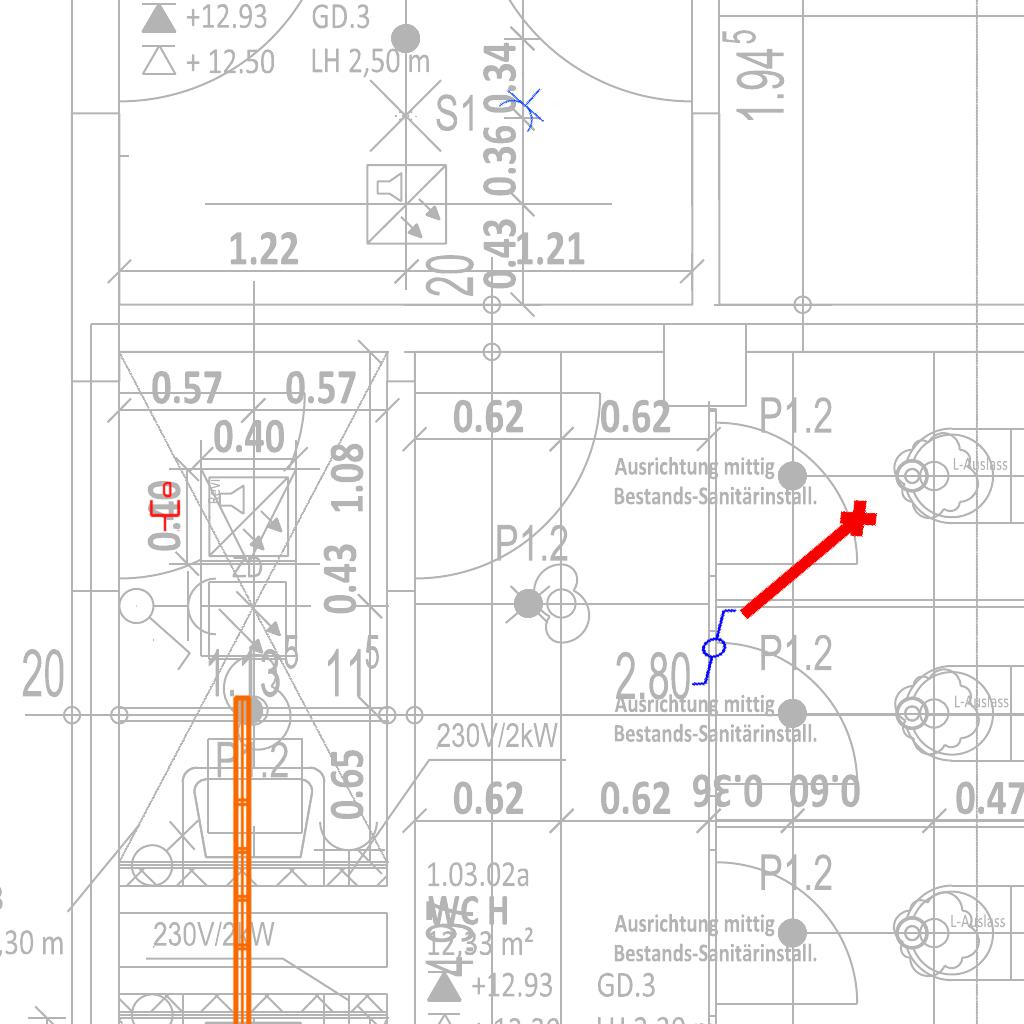ASR_Ansaugoeffnung: (725, 489, 891, 639)
Ambulanz_Pendelleuchte_LED: (227, 690, 283, 1024)
Datenanschluss_einfach: (148, 482, 182, 532)
Schukosteckdose_einfach: (493, 71, 559, 138)
Wechselschalter: (661, 601, 759, 695)
